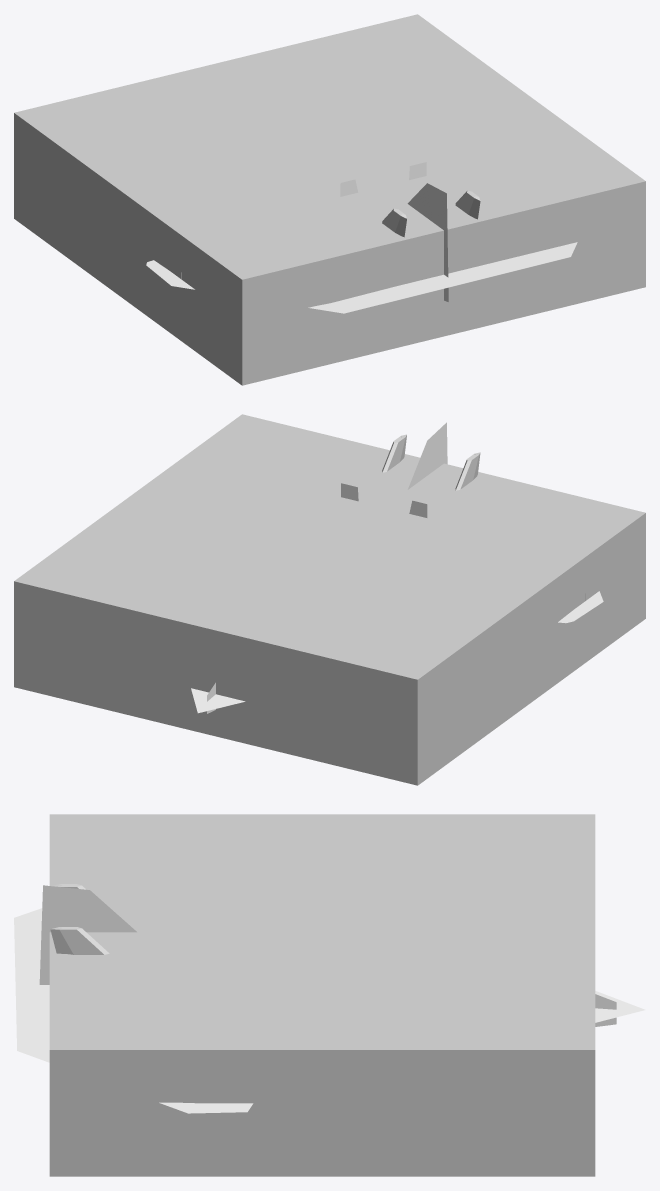
3 renders of one model, top to bottom at view 1: azimuth 30°, elevation 25°; view 2: azimuth 150°, elevation 25°; view 3: azimuth 270°, elevation 25°, orthographic. The views are drawn at different scales.
Parts seen in each view (by area): view 1: Cube-noimp, Empty.003-noimp, Empty.005-noimp, VerticalStabilizer; view 2: Cube-noimp, Empty.005-noimp, Empty.003-noimp, VerticalStabilizer; view 3: Cube-noimp, Empty.003-noimp, Empty.005-noimp, VerticalStabilizer.
Part boxes in pixels (x1=…): Cube-noimp: x1=14, y1=14, x2=645, y2=385; Empty.003-noimp: x1=146, y1=242, x2=577, y2=313; Empty.005-noimp: x1=407, y1=183, x2=448, y2=301; VerticalStabilizer: x1=382, y1=190, x2=478, y2=232; Cube-noimp: x1=14, y1=414, x2=645, y2=785; Empty.005-noimp: x1=207, y1=422, x2=447, y2=713; Empty.003-noimp: x1=191, y1=591, x2=603, y2=713; VerticalStabilizer: x1=382, y1=436, x2=478, y2=490; Cube-noimp: x1=49, y1=814, x2=595, y2=1176; Empty.003-noimp: x1=14, y1=908, x2=645, y2=1113; Empty.005-noimp: x1=39, y1=885, x2=616, y2=1026; VerticalStabilizer: x1=59, y1=884, x2=109, y2=954.
Size of the model in its own units: 21.14 by 6.71 by 22.16.
Materials: 4 (3 with a texture image).
